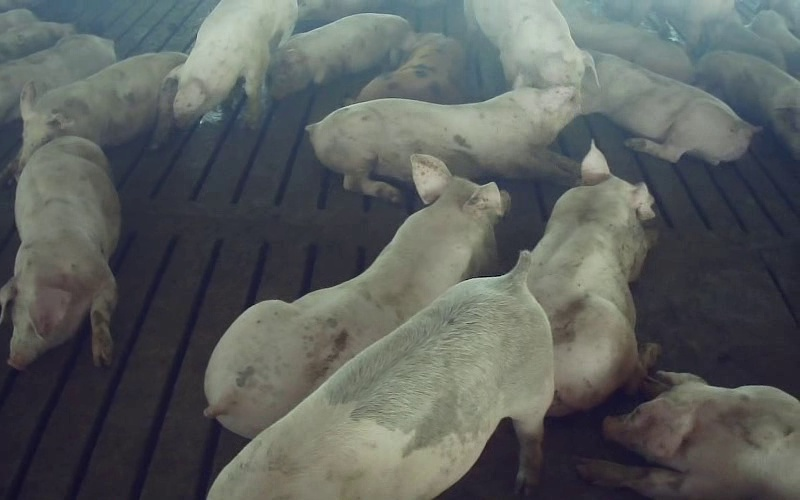pig: (204, 154, 508, 437), (528, 143, 658, 415), (307, 87, 577, 201), (577, 371, 799, 499), (0, 136, 119, 368), (582, 51, 757, 163), (19, 52, 186, 167), (270, 13, 413, 98), (464, 0, 593, 89), (555, 0, 693, 82), (697, 51, 799, 159), (356, 33, 465, 103)
